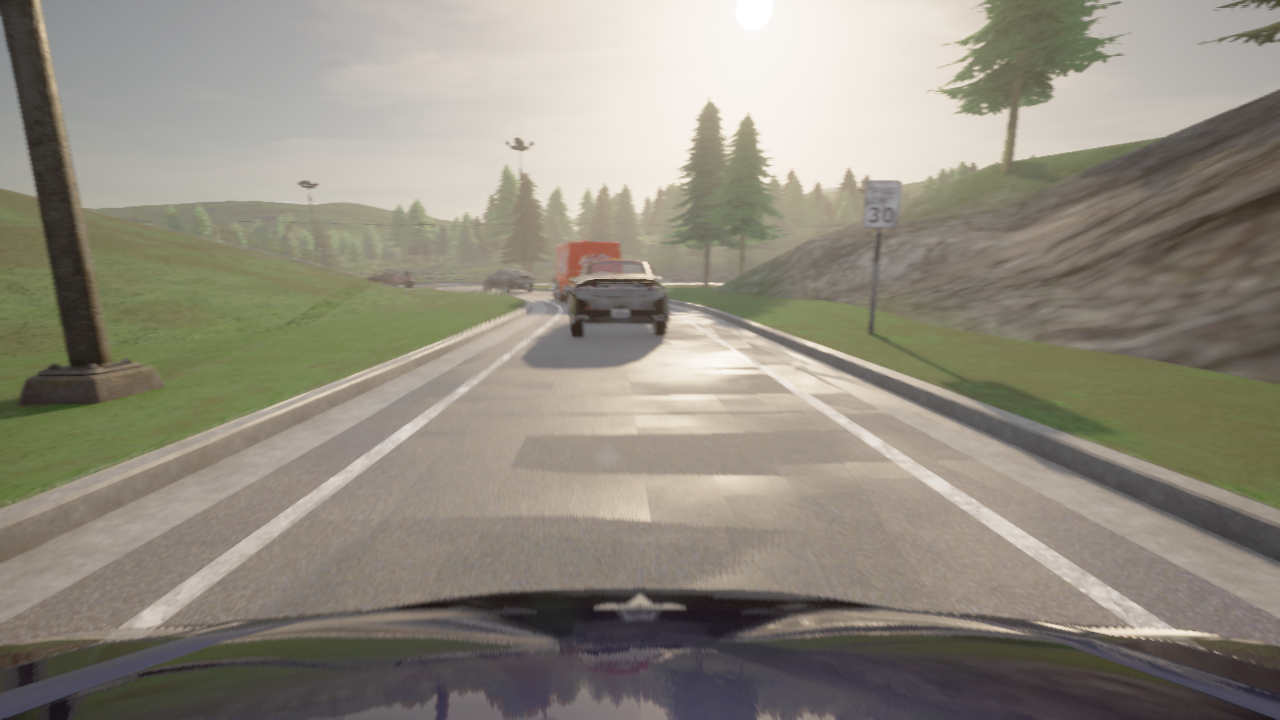cyclist: (0, 588, 1279, 719), (569, 259, 668, 336), (547, 241, 620, 302), (484, 268, 535, 292), (367, 268, 413, 287)
